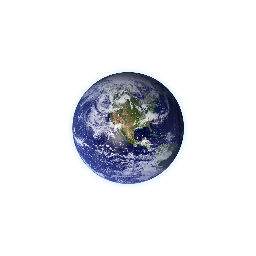planet: (69, 69, 193, 184)
